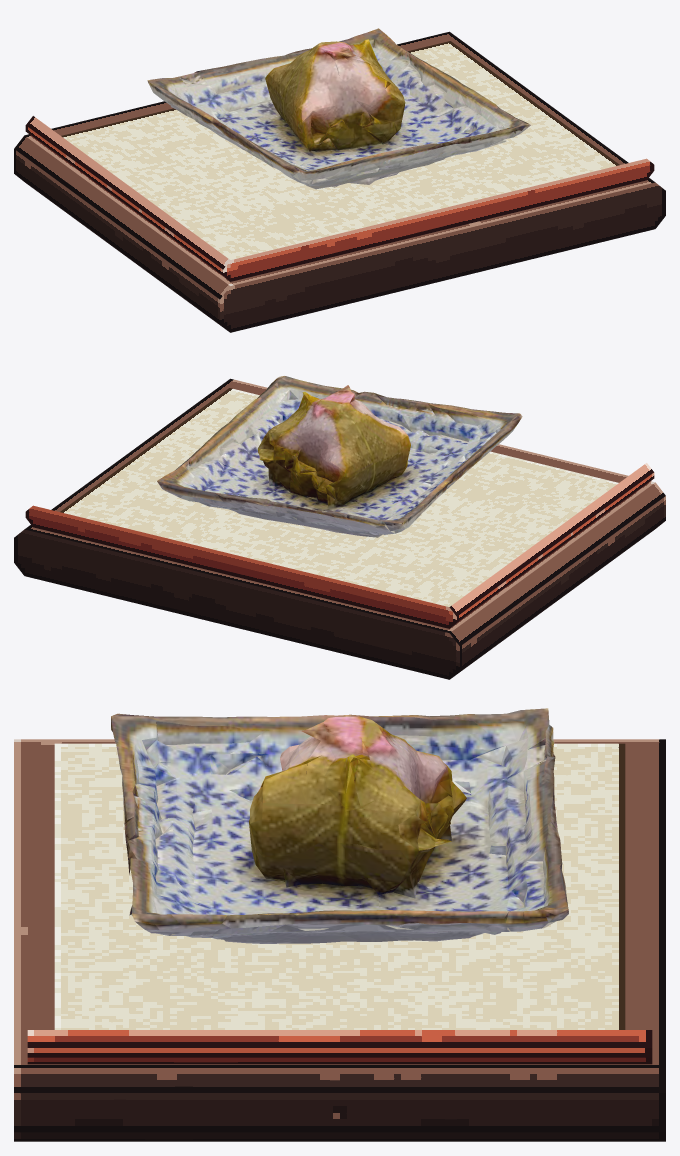
File: sakura.glb
The picture shows the model from 3 angles, top to bottom: view 1: azimuth 30°, elevation 25°; view 2: azimuth 150°, elevation 25°; view 3: azimuth 270°, elevation 25°; orthographic projection. The views are drawn at different scales.
Visible parts, largest first — view 1: mat, base, model_mochi, rim; view 2: mat, base, model_mochi, rim; view 3: model_mochi, mat, base, rim.
Boxes of the visible parts, x1,y1,x2,y2 form: mat: (61,41,619,259); base: (14,31,665,332); model_mochi: (147,28,530,189); rim: (25,116,654,281); mat: (60,388,618,606); base: (14,378,665,679); model_mochi: (157,376,522,537); rim: (25,463,654,628); model_mochi: (111,708,568,943); mat: (54,743,625,1029); base: (14,739,665,1141); rim: (27,1030,652,1064).
Bounding box in the file's own units: 30 × 10.2 × 24.
2 materials, 2 textured.
